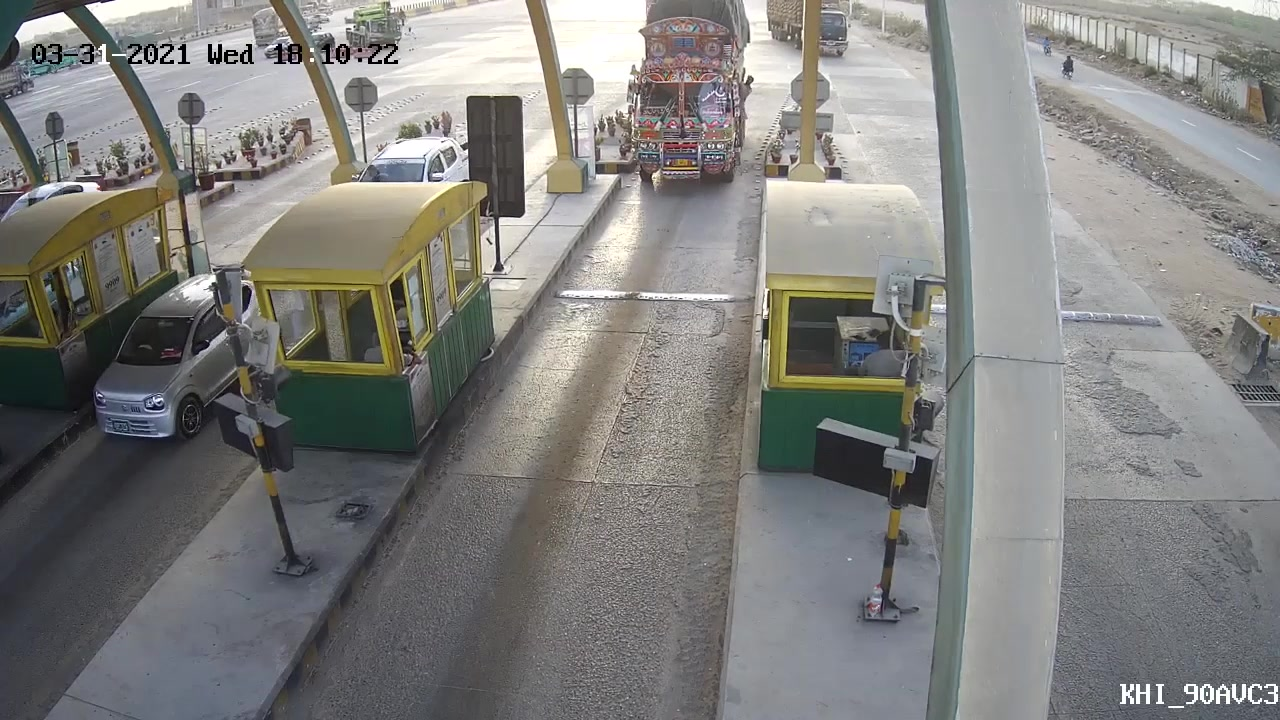F5: (620, 33, 754, 193)
